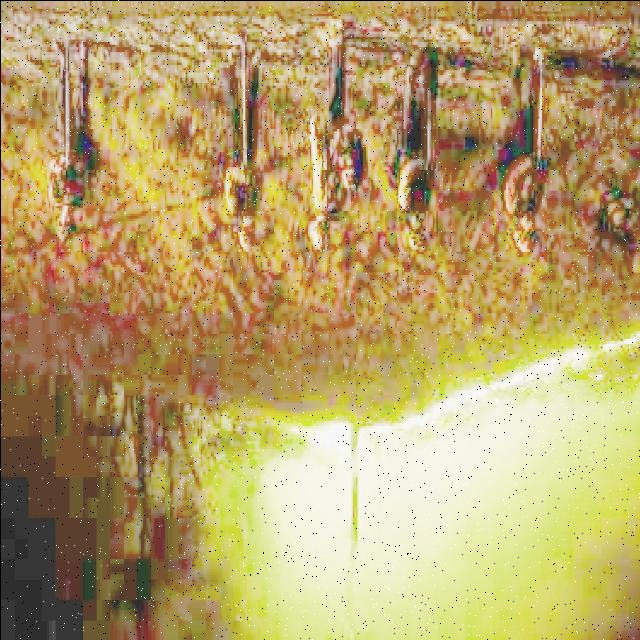api: (203, 420, 640, 640), (282, 319, 640, 481)
